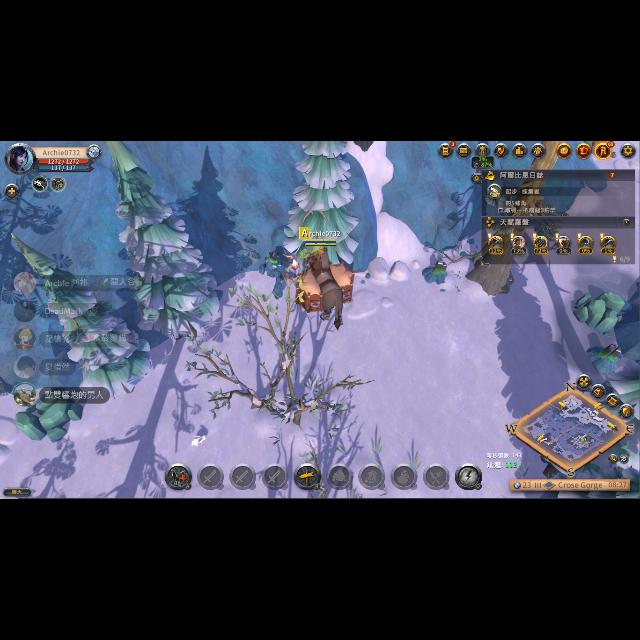mine_iii: (590, 340, 624, 372), (424, 258, 448, 286)
